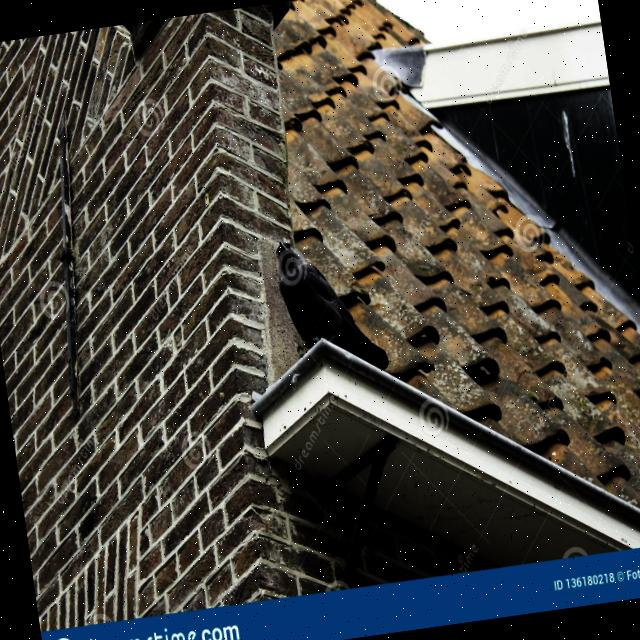bird: (270, 226, 391, 384)
